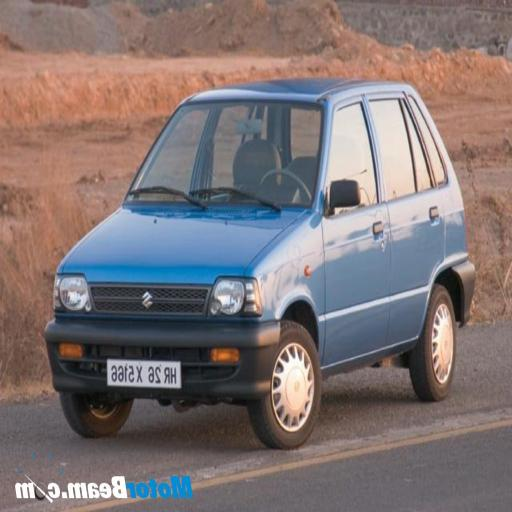License: (98, 355, 184, 396)
